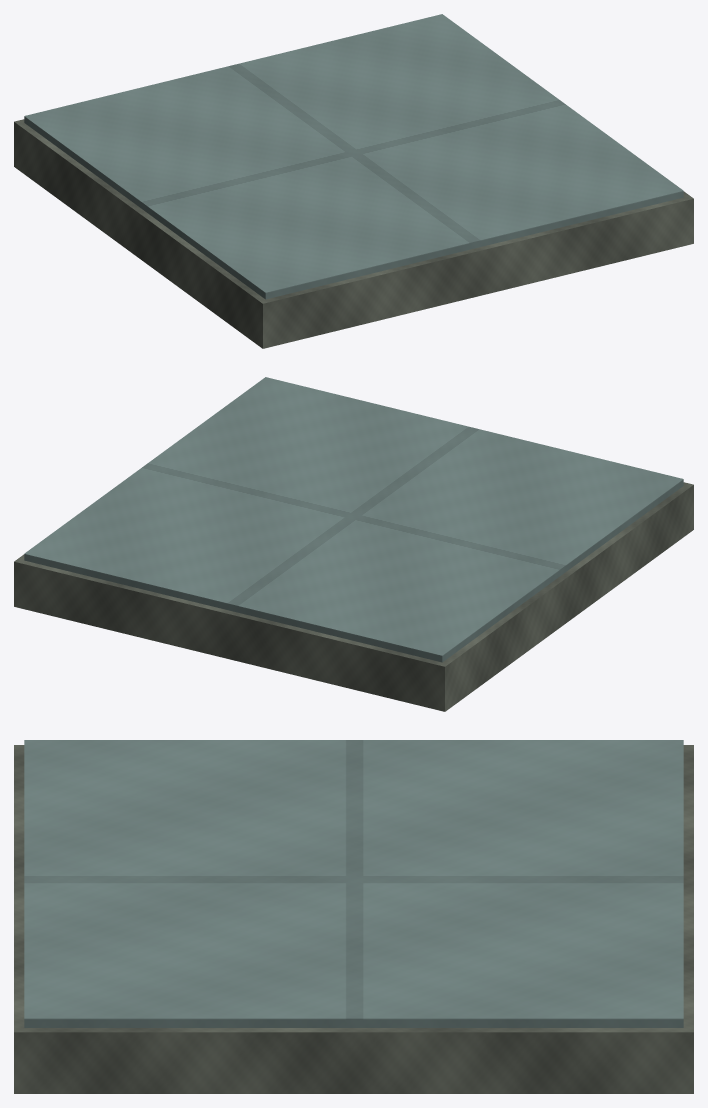
File: Hab_Floor_2m.glb
The picture shows the model from 3 angles, top to bottom: view 1: azimuth 30°, elevation 25°; view 2: azimuth 150°, elevation 25°; view 3: azimuth 270°, elevation 25°; orthographic projection. The views are drawn at different scales.
Visible parts, largest first — view 1: Hab_Floor_2m; view 2: Hab_Floor_2m; view 3: Hab_Floor_2m.
Part boxes in pixels (x1,y1,x2,y2): Hab_Floor_2m: (14,14,693,348); Hab_Floor_2m: (14,377,693,711); Hab_Floor_2m: (14,740,693,1093).
Size of the model in its own units: 2 by 0.23 by 2.
2 materials, 2 textured.
